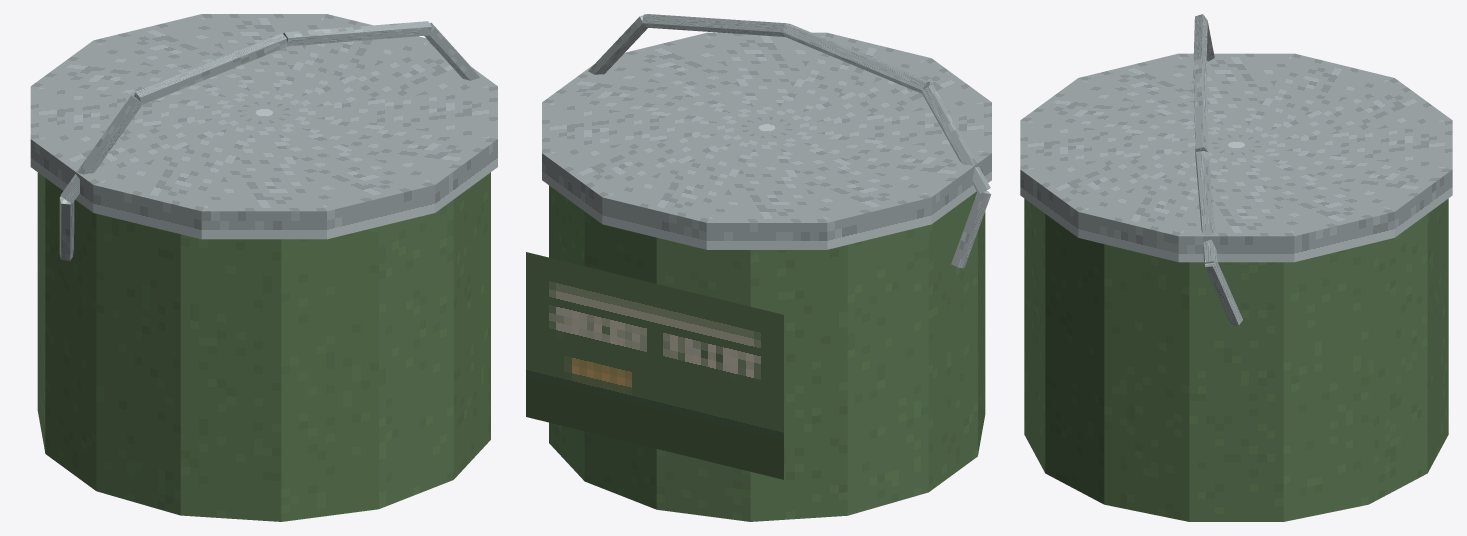
Rendered from paint_green.glb.
The picture shows the model from 3 angles, left to right: view 1: azimuth 30°, elevation 25°; view 2: azimuth 150°, elevation 25°; view 3: azimuth 270°, elevation 25°; orthographic projection. The views are drawn at different scales.
Visible parts, largest first — view 1: block_body, block_paint bucket lid, block_wire carry bail 2, block_wire carry bail 3, block_wire carry bail 1, block_wire carry bail 4, block_wire carry bail 0; view 2: block_body, block_paint bucket lid, block_paint label, block_wire carry bail 2, block_wire carry bail 3, block_wire carry bail 1, block_wire carry bail 0, block_wire carry bail 4; view 3: block_body, block_paint bucket lid, block_wire carry bail 4, block_wire carry bail 3, block_wire carry bail 5, block_wire carry bail 2.
Part boxes in pixels (x1=…): block_body: x1=37, y1=172, x2=490, y2=521; block_paint bucket lid: x1=30, y1=14, x2=497, y2=239; block_wire carry bail 2: x1=134, y1=33, x2=287, y2=104; block_wire carry bail 3: x1=283, y1=21, x2=431, y2=46; block_wire carry bail 1: x1=60, y1=95, x2=142, y2=203; block_wire carry bail 4: x1=424, y1=22, x2=479, y2=80; block_wire carry bail 0: x1=59, y1=196, x2=74, y2=260; block_body: x1=549, y1=185, x2=985, y2=521; block_paint bucket lid: x1=542, y1=32, x2=991, y2=249; block_paint label: x1=526, y1=252, x2=783, y2=479; block_wire carry bail 2: x1=782, y1=23, x2=929, y2=93; block_wire carry bail 3: x1=642, y1=14, x2=788, y2=36; block_wire carry bail 1: x1=921, y1=84, x2=990, y2=193; block_wire carry bail 0: x1=951, y1=191, x2=991, y2=268; block_wire carry bail 4: x1=588, y1=15, x2=647, y2=74; block_body: x1=1024, y1=198, x2=1448, y2=521; block_paint bucket lid: x1=1020, y1=53, x2=1452, y2=262; block_wire carry bail 4: x1=1195, y1=151, x2=1217, y2=264; block_wire carry bail 3: x1=1193, y1=58, x2=1208, y2=152; block_wire carry bail 5: x1=1205, y1=260, x2=1242, y2=326; block_wire carry bail 2: x1=1193, y1=14, x2=1207, y2=63.
Size of the model in its own units: 0.2967 by 0.2663 by 0.276.
2 materials, 2 textured.
